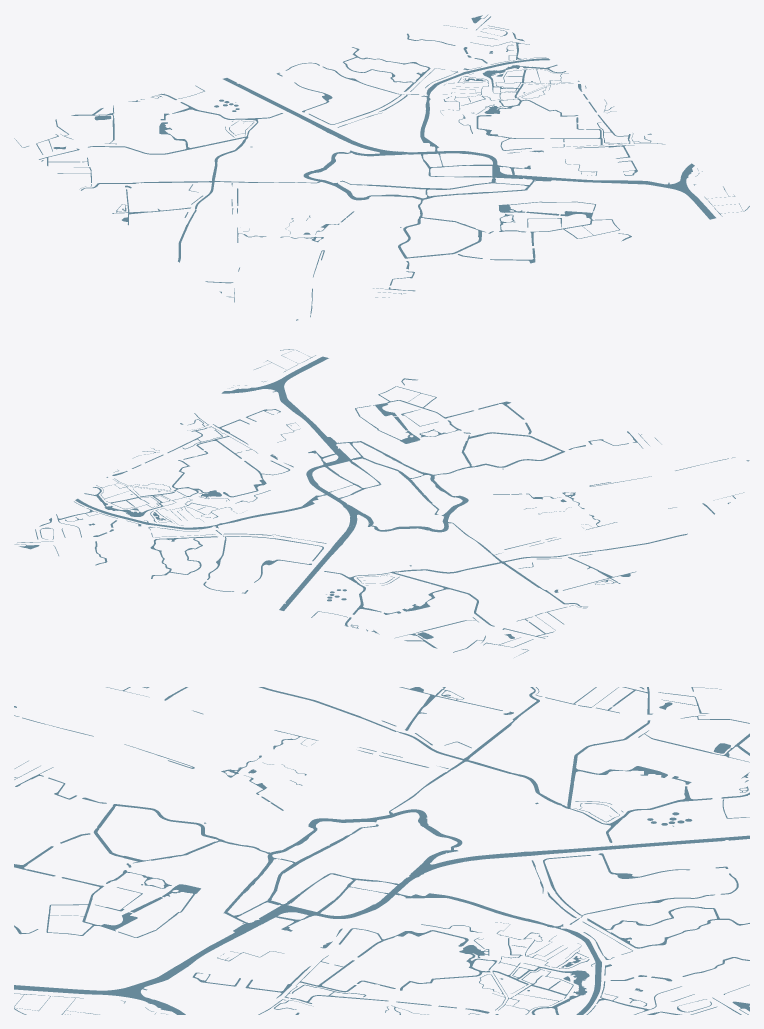
File: ground_water.glb
3 renders of one model, top to bottom at view 1: azimuth 30°, elevation 25°; view 2: azimuth 150°, elevation 25°; view 3: azimuth 270°, elevation 25°, orthographic. The views are drawn at different scales.
Parts seen in each view (by area): view 1: water; view 2: water; view 3: water.
Boxes of the visible parts, x1,y1,x2,y2 form: water: [14, 14, 749, 320]; water: [14, 349, 749, 657]; water: [14, 687, 749, 1014].
Size of the model in its own units: 3583 by 0 by 3400.
